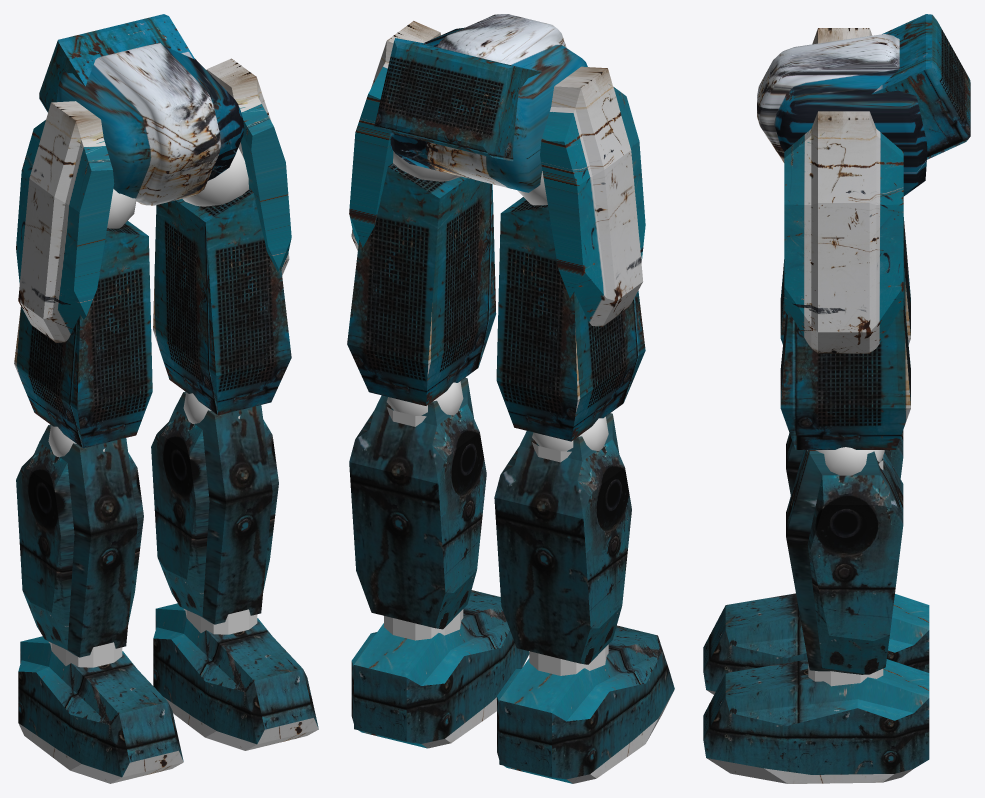
File: Robot 3 Legs.fbx
3 views of the same model, side by side, from view 1: azimuth 30°, elevation 25°; view 2: azimuth 150°, elevation 25°; view 3: azimuth 270°, elevation 25° (orthographic). The views are drawn at different scales.
Visible parts, largest first — view 1: Cube.001, Cube.008, Cube.025, Cube.020, Cube.006, Cube.026, Cube.023, Cube.012, Cube.013, Cube.034, Icosphere.001, Cube.007 (+4 smaller); view 2: Cube.001, Cube.025, Cube.008, Cube.006, Cube.026, Cube.023, Cube.012, Cube.034, Cube.020, Cube.013, Cube.007, Cube.009 (+3 smaller); view 3: Cube.013, Cube.012, Cube.008, Cube.020, Cube.001, Cube.023, Cube.034, Icosphere.002, Cube.025, Cube.006, Cube.009, Cube.026.
Boxes of the visible parts, left/top/right/bottom form: Cube.001: left=153, top=189, right=291, bottom=415; Cube.008: left=151, top=391, right=278, bottom=624; Cube.025: left=16, top=424, right=143, bottom=657; Cube.020: left=56, top=42, right=244, bottom=205; Cube.006: left=14, top=221, right=152, bottom=448; Cube.026: left=16, top=101, right=114, bottom=342; Cube.023: left=18, top=636, right=183, bottom=783; Cube.012: left=153, top=603, right=318, bottom=750; Cube.013: left=206, top=58, right=291, bottom=275; Cube.034: left=39, top=14, right=194, bottom=112; Icosphere.001: left=182, top=148, right=248, bottom=206; Cube.007: left=48, top=642, right=122, bottom=667; Cube.001: left=347, top=163, right=496, bottom=405; Cube.025: left=494, top=413, right=631, bottom=664; Cube.008: left=349, top=377, right=486, bottom=629; Cube.006: left=496, top=197, right=645, bottom=441; Cube.026: left=540, top=66, right=645, bottom=326; Cube.023: left=497, top=625, right=674, bottom=783; Cube.012: left=351, top=590, right=529, bottom=748; Cube.034: left=374, top=38, right=541, bottom=161; Cube.020: left=390, top=14, right=587, bottom=192; Cube.013: left=349, top=21, right=440, bottom=250; Cube.007: left=529, top=442, right=608, bottom=675; Cube.009: left=384, top=407, right=463, bottom=640; Cube.013: left=784, top=111, right=903, bottom=353; Cube.012: left=703, top=659, right=929, bottom=783; Cube.008: left=786, top=450, right=903, bottom=674; Cube.020: left=757, top=34, right=927, bottom=196; Cube.001: left=780, top=295, right=910, bottom=449; Cube.023: left=703, top=593, right=929, bottom=694; Cube.034: left=872, top=14, right=970, bottom=159; Icosphere.002: left=807, top=447, right=884, bottom=475; Cube.025: left=786, top=430, right=903, bottom=495; Cube.006: left=780, top=217, right=910, bottom=344; Cube.009: left=808, top=456, right=883, bottom=686; Cube.026: left=812, top=28, right=872, bottom=44.
Size of the model in its own units: 318 by 820 by 289.
